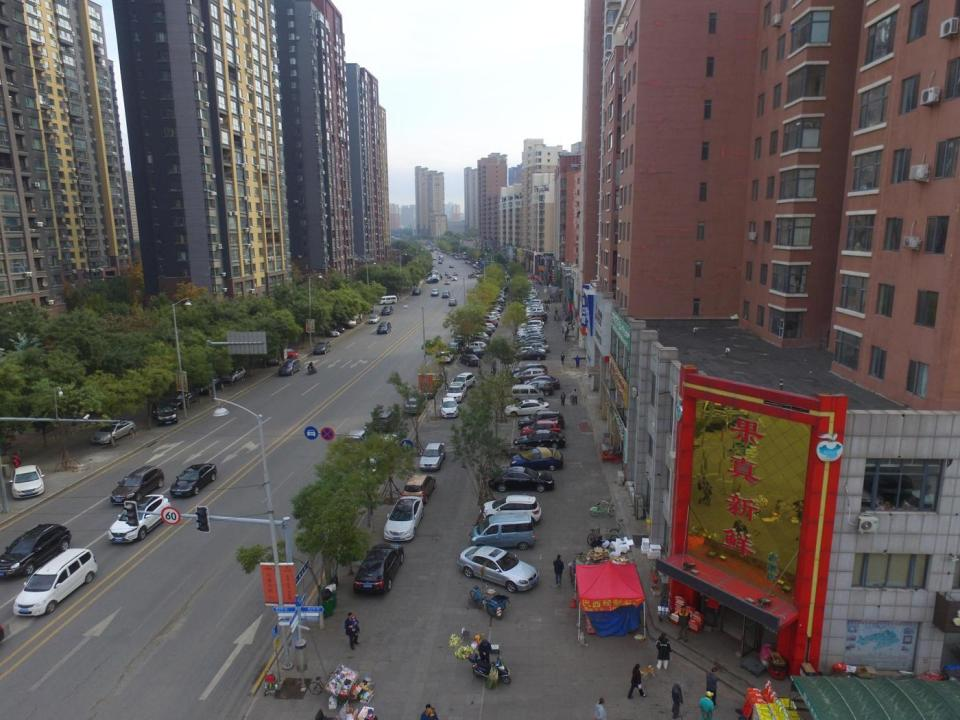car: (12, 549, 96, 619), (0, 522, 71, 582), (462, 544, 540, 594), (108, 494, 168, 542), (352, 543, 403, 595), (109, 466, 164, 507), (384, 495, 425, 540), (486, 467, 554, 492), (169, 464, 216, 499), (480, 497, 540, 523), (399, 472, 436, 504), (10, 465, 43, 500), (91, 420, 135, 446), (509, 449, 566, 469), (511, 432, 565, 451), (160, 385, 198, 410), (186, 371, 223, 396), (500, 399, 548, 418), (522, 411, 565, 432), (420, 440, 445, 472), (370, 433, 398, 460), (153, 398, 178, 428), (343, 429, 369, 457), (520, 422, 560, 440), (219, 363, 247, 384), (374, 409, 400, 430), (516, 381, 553, 395), (522, 375, 559, 389), (509, 369, 546, 383), (446, 380, 468, 402), (510, 363, 547, 376), (440, 397, 460, 418), (280, 357, 301, 376), (454, 373, 477, 390), (404, 397, 426, 414), (260, 348, 280, 366), (278, 342, 298, 360), (418, 383, 436, 399), (312, 340, 330, 356), (425, 373, 444, 388), (467, 335, 490, 346), (467, 330, 490, 341), (469, 326, 492, 337), (331, 316, 354, 327), (464, 341, 486, 352), (322, 321, 344, 332), (316, 326, 339, 336), (436, 350, 452, 364), (376, 320, 392, 334), (462, 348, 484, 358), (462, 355, 480, 367), (479, 324, 496, 333), (480, 319, 497, 328), (481, 315, 497, 324), (452, 334, 465, 345), (446, 344, 459, 354), (381, 305, 394, 315), (368, 314, 380, 323), (441, 290, 450, 298), (411, 288, 421, 295), (430, 289, 439, 296), (448, 300, 458, 306), (444, 278, 450, 284), (452, 276, 458, 282), (446, 274, 452, 278), (449, 264, 454, 268), (454, 271, 458, 275), (445, 271, 448, 275)
van: (470, 516, 536, 550), (505, 384, 546, 405), (378, 295, 396, 305)
